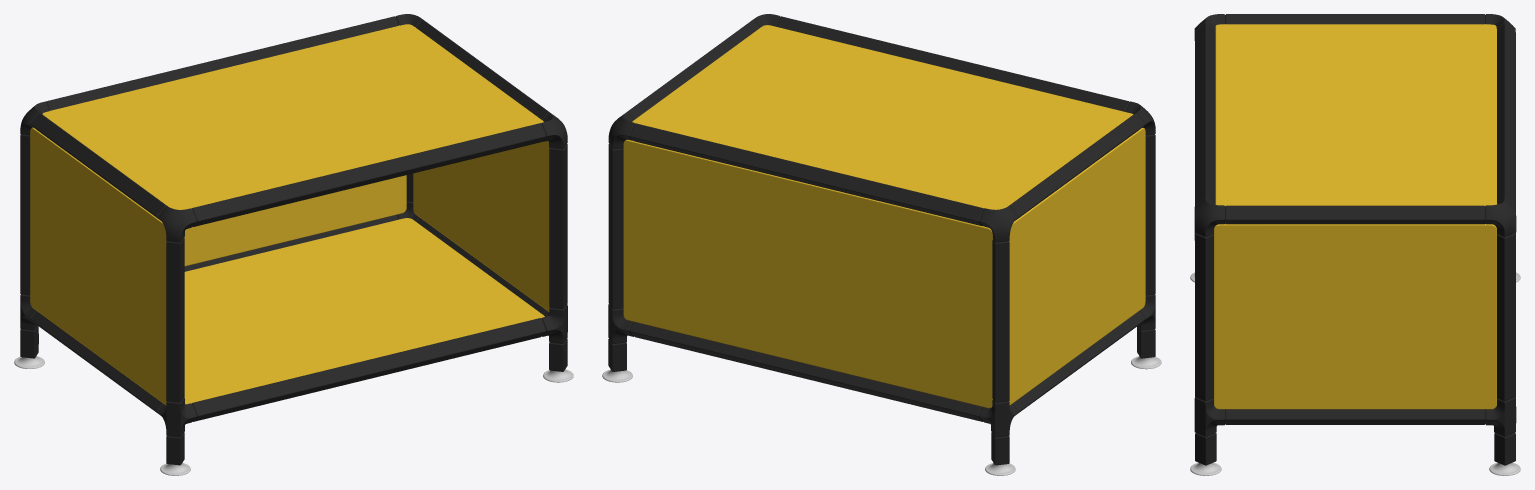
3 renders of one model, left to right at view 1: azimuth 30°, elevation 25°; view 2: azimuth 150°, elevation 25°; view 3: azimuth 270°, elevation 25°, orthographic. The views are drawn at different scales.
Visible parts, largest first — view 1: 523x329x229; view 2: 523x329x229; view 3: 523x329x229.
Boxes of the visible parts, x1,y1,x2,y2 form: 523x329x229: (14,14,573,475); 523x329x229: (602,14,1161,475); 523x329x229: (1190,14,1520,475).
Bounding box in the file's own units: 0.6129 × 0.3683 × 0.4182.
